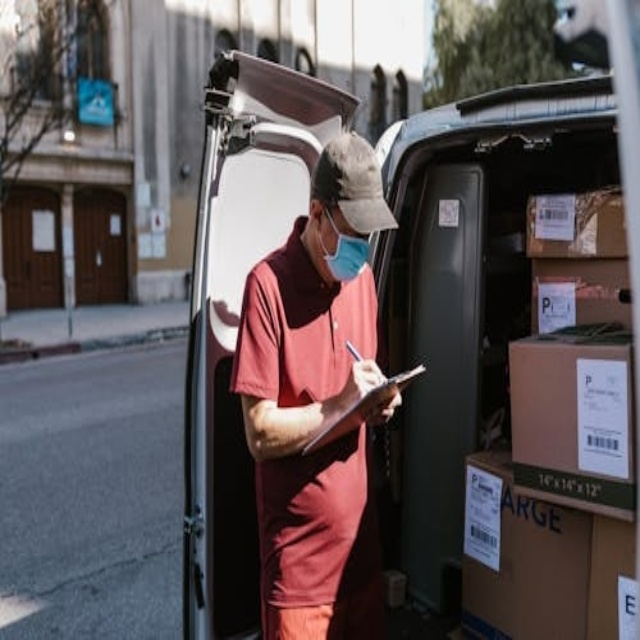Mascara: (321, 206, 371, 281)
Sin_guantes: (351, 356, 393, 412)
